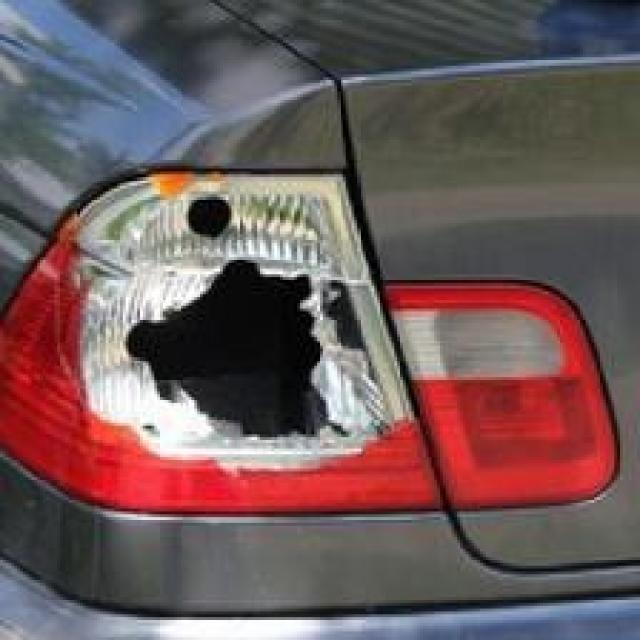damaged: (114, 255, 397, 480)
